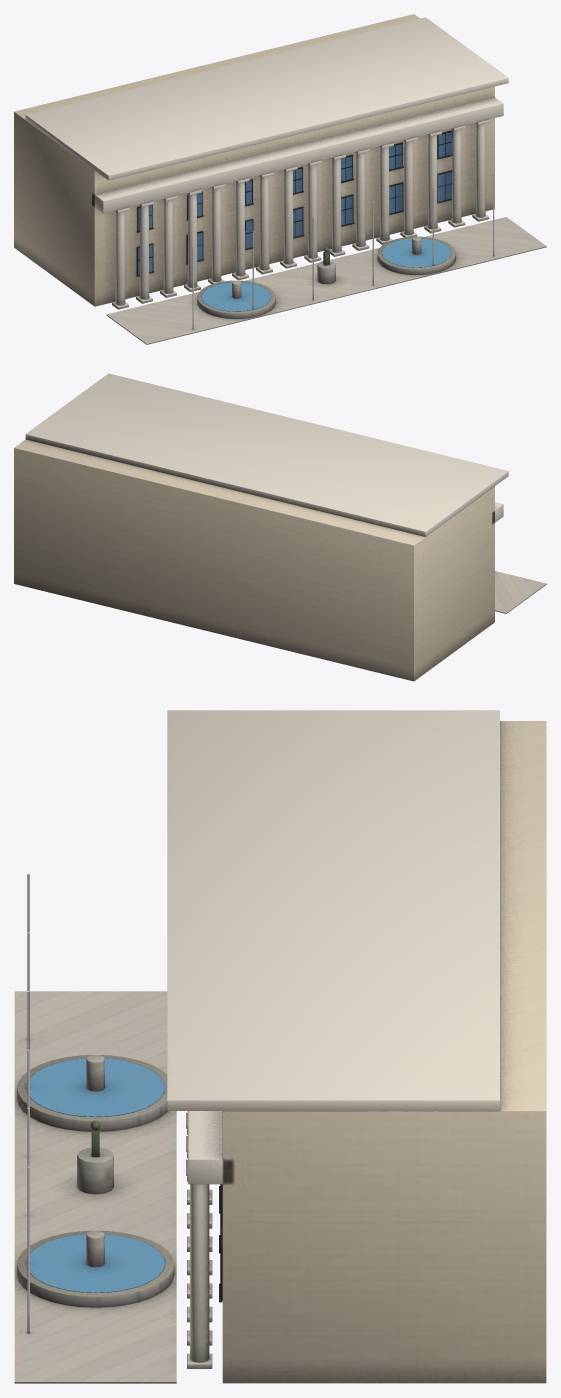
Rendered from navy.glb.
3 renders of one model, top to bottom at view 1: azimuth 30°, elevation 25°; view 2: azimuth 150°, elevation 25°; view 3: azimuth 270°, elevation 25°, orthographic. The views are drawn at different scales.
Parts seen in each view (by area): view 1: navy; view 2: navy; view 3: navy.
Boxes of the visible parts, <box> form: navy: <box>14,14,546,344</box>; navy: <box>14,373,546,681</box>; navy: <box>14,710,546,1383</box>.
Bounding box in the file's own units: 40 × 13.5 × 23.
1 material, 1 textured.
